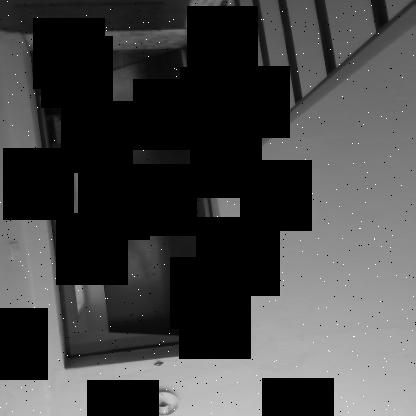Porte: (32, 47, 233, 358)
